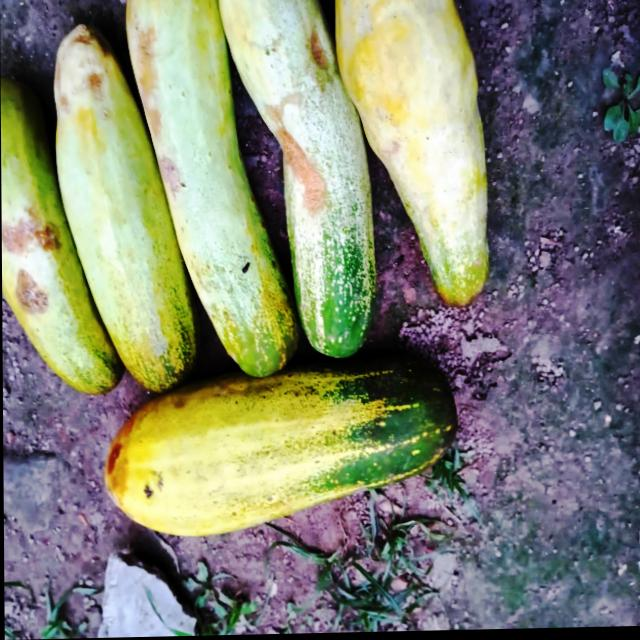Belly-Rot: (263, 93, 339, 220), (134, 22, 187, 201), (1, 207, 66, 324), (50, 23, 115, 119), (99, 414, 140, 507), (299, 22, 342, 82)
